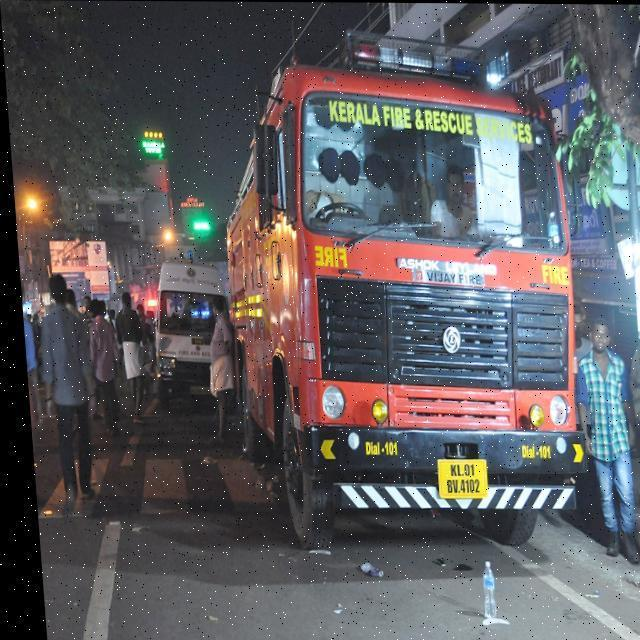Ambulance: (8, 20, 640, 630), (206, 30, 590, 552), (22, 373, 640, 640), (140, 252, 232, 408)
